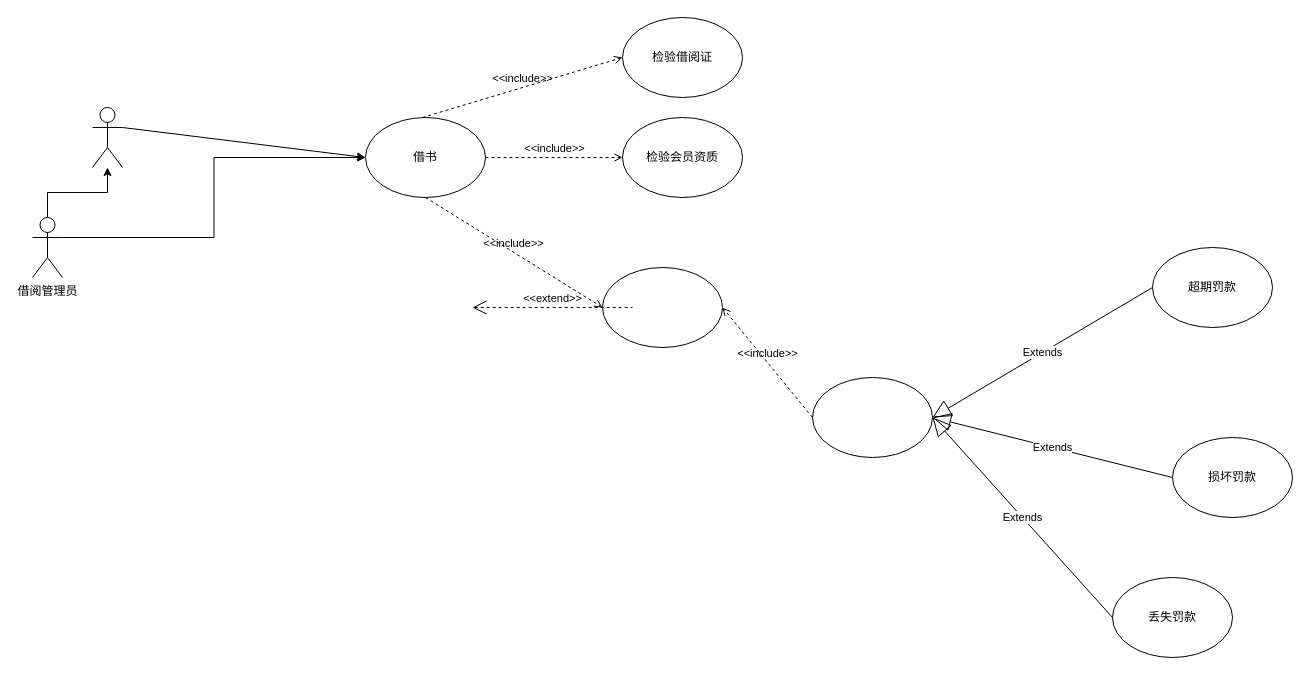
This 1310x675 diagram has some shape labels left out. Here are the shapes that lost their labels. From the top down, the centre of each, then its label:
point 107,137: 管理员
point 662,307: 检查是否超期
point 872,417: 罚款
